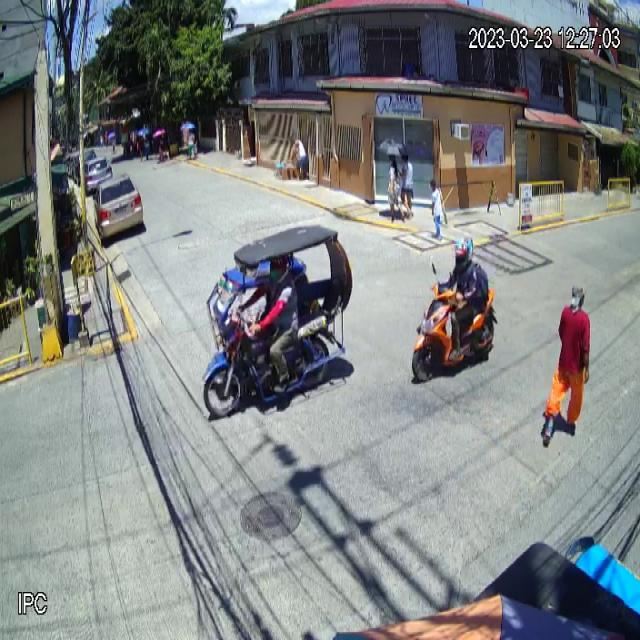Motorcycle: (412, 260, 498, 384)
Tricycle: (201, 223, 354, 418)
